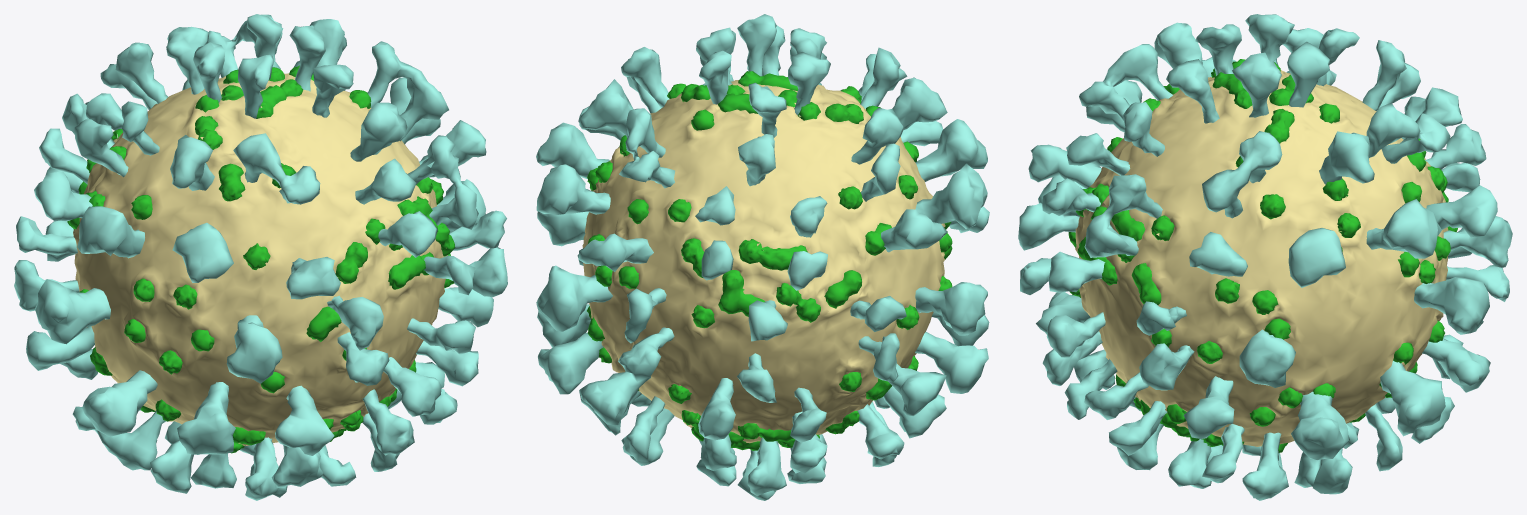
File: virus.glb
3 views of the same model, side by side, from view 1: azimuth 30°, elevation 25°; view 2: azimuth 150°, elevation 25°; view 3: azimuth 270°, elevation 25° (orthographic). The views are drawn at different scales.
Visible parts, largest first — view 1: legs, body, joint; view 2: legs, body, joint; view 3: legs, body, joint.
Boxes of the visible parts, <box> form: legs: <box>14,14,507,500</box>; body: <box>73,73,447,445</box>; joint: <box>67,65,455,453</box>; legs: <box>536,14,989,500</box>; body: <box>582,80,945,443</box>; joint: <box>587,71,952,450</box>; legs: <box>1018,14,1512,500</box>; body: <box>1075,70,1448,446</box>; joint: <box>1068,59,1457,452</box>.
Bounding box in the file's own units: 2.82 × 2.7 × 2.73.
